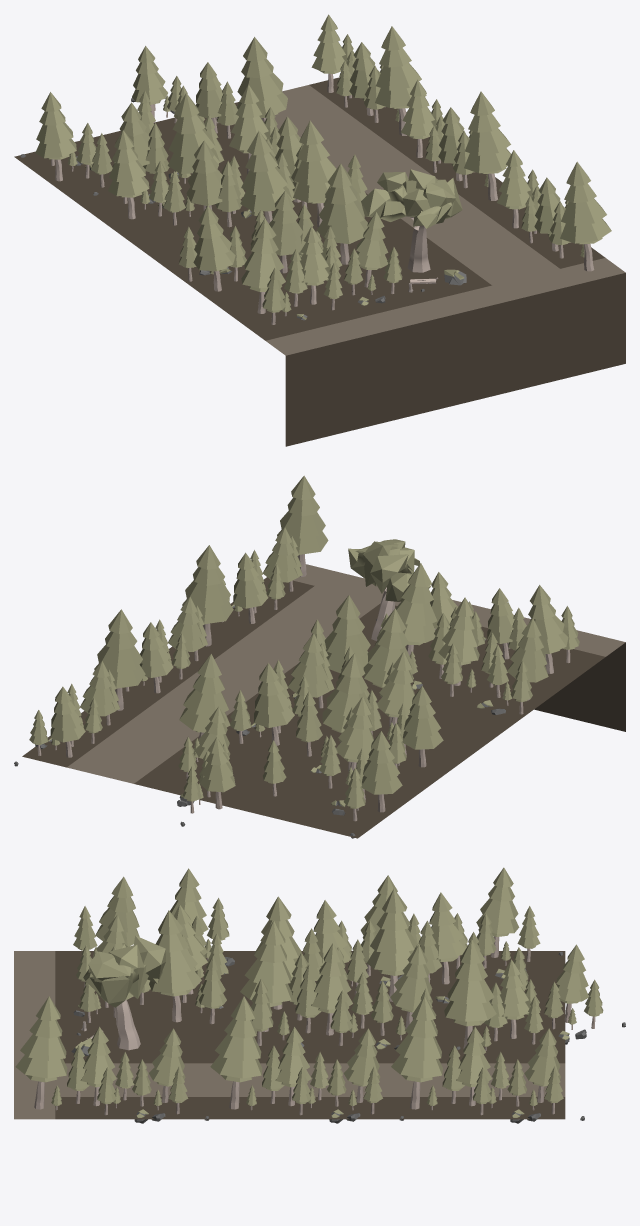
File: heartofforest1.fbx
3 renders of one model, top to bottom at view 1: azimuth 30°, elevation 25°; view 2: azimuth 150°, elevation 25°; view 3: azimuth 270°, elevation 25°, orthographic. The views are drawn at different scales.
Visible parts, largest first — view 1: pPlane1, pasted__pasted__pCone3 (×13), pasted__pasted__pCube2, pasted__pasted__pCone2 (×5); view 2: pPlane1, pasted__pasted__pCone3 (×16), pasted__pasted__pCone2 (×8), pasted__pasted__pCube2; view 3: pPlane1, pasted__pasted__pCone3 (×12), pasted__pasted__pCone2 (×7), pasted__pasted__pCube2, pasted__pasted__pCone4 (×6).
Part boxes in pixels (bbox=[...]): pPlane1: bbox=[14, 77, 625, 446]; pasted__pasted__pCone3 (×13): bbox=[36, 63, 606, 273]; pasted__pasted__pCube2: bbox=[361, 169, 462, 272]; pasted__pasted__pCone2 (×5): bbox=[240, 84, 611, 243]; pPlane1: bbox=[22, 564, 625, 838]; pasted__pasted__pCone3 (×16): bbox=[97, 511, 547, 781]; pasted__pasted__pCone2 (×8): bbox=[94, 530, 443, 794]; pasted__pasted__pCube2: bbox=[348, 539, 431, 641]; pPlane1: bbox=[14, 951, 565, 1119]; pasted__pasted__pCone3 (×12): bbox=[20, 898, 518, 1060]; pasted__pasted__pCone2 (×7): bbox=[15, 950, 496, 1078]; pasted__pasted__pCube2: bbox=[83, 935, 165, 1050]; pasted__pasted__pCone4 (×6): bbox=[29, 912, 487, 1038].
Size of the model in its own units: 569 by 308 by 852.
